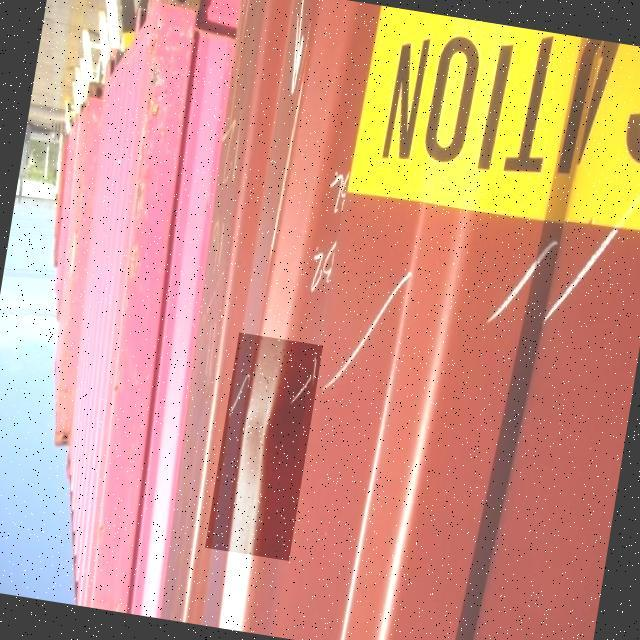Minor-Dent: (205, 333, 323, 562)
